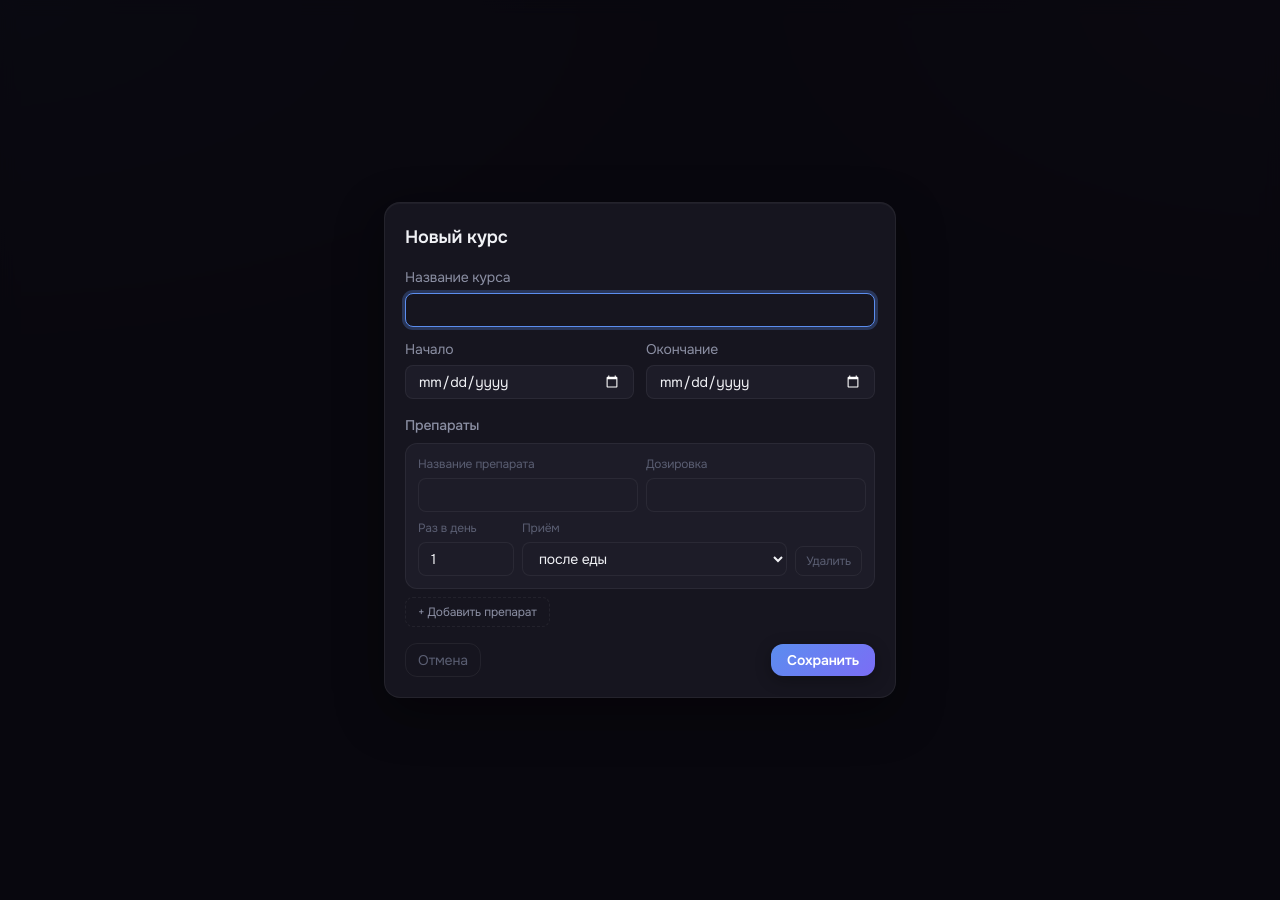
Scenario: препарат с пустым названием отклоняется
Type "Курс" into the field labelled "Название курса" at (640, 310), box [405,293,875,327]
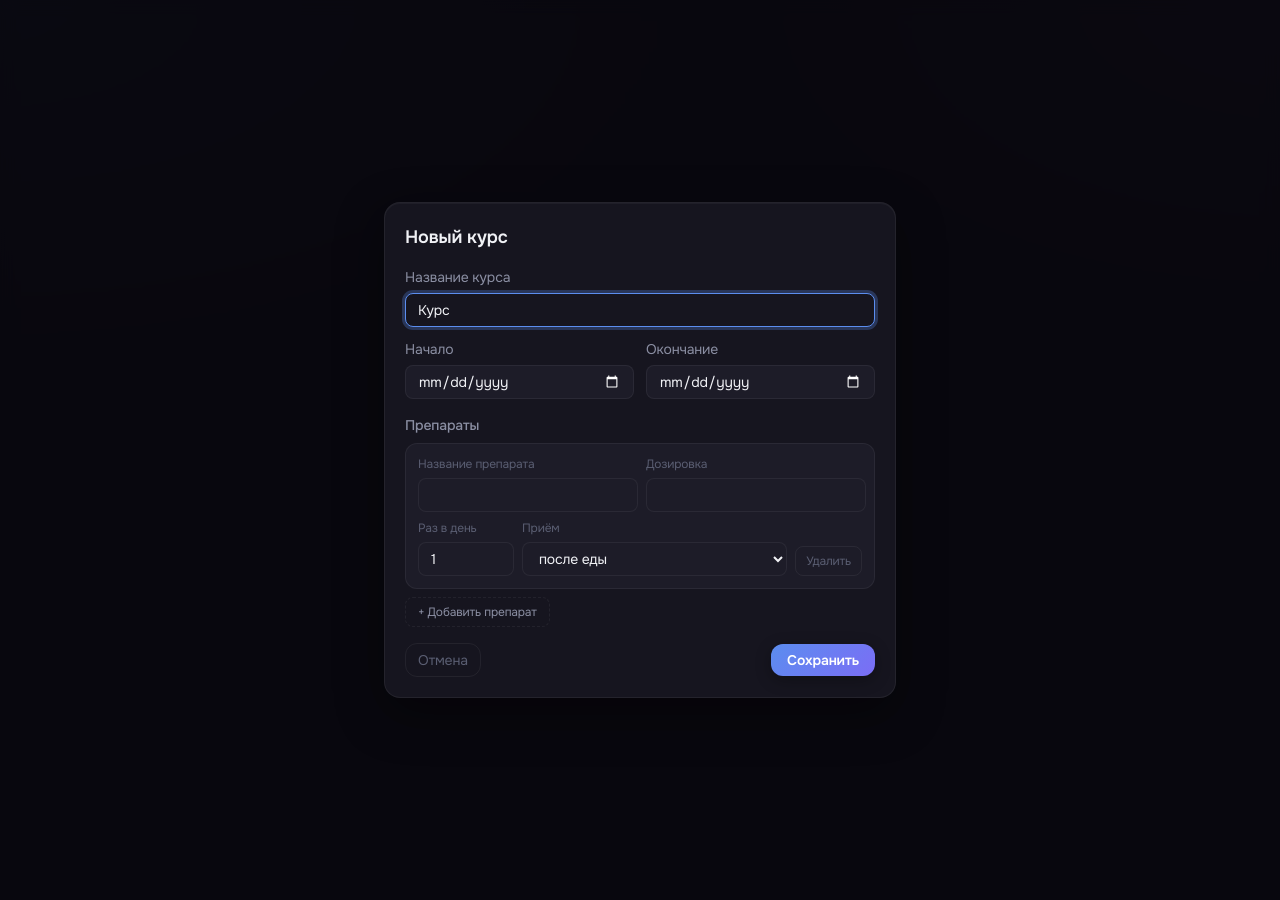
Type "2026-10-01" into the date field labelled "Начало" at (520, 382), box [405,365,634,399]
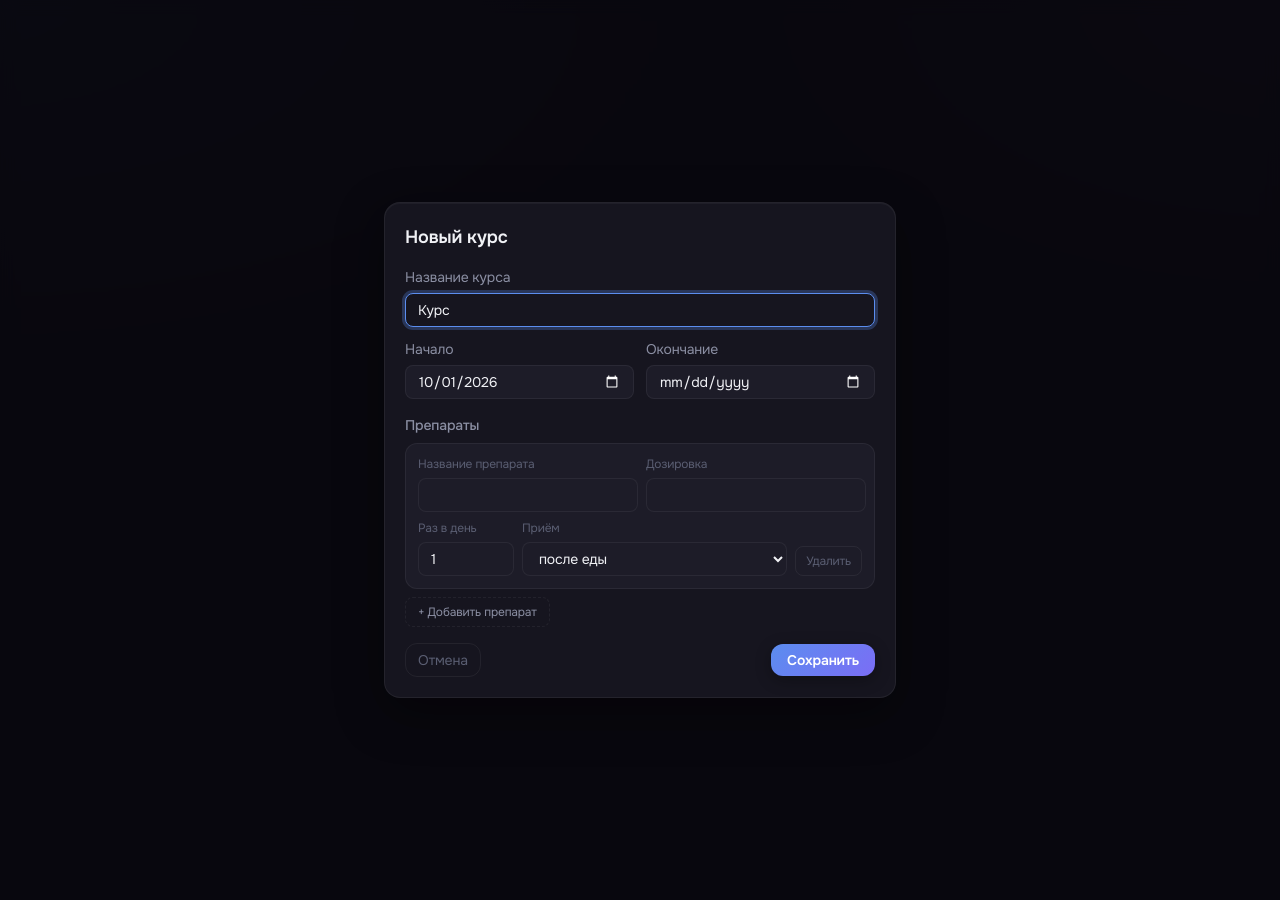
Type "2026-10-07" into the date field labelled "Окончание" at (760, 382), box [646,365,875,399]
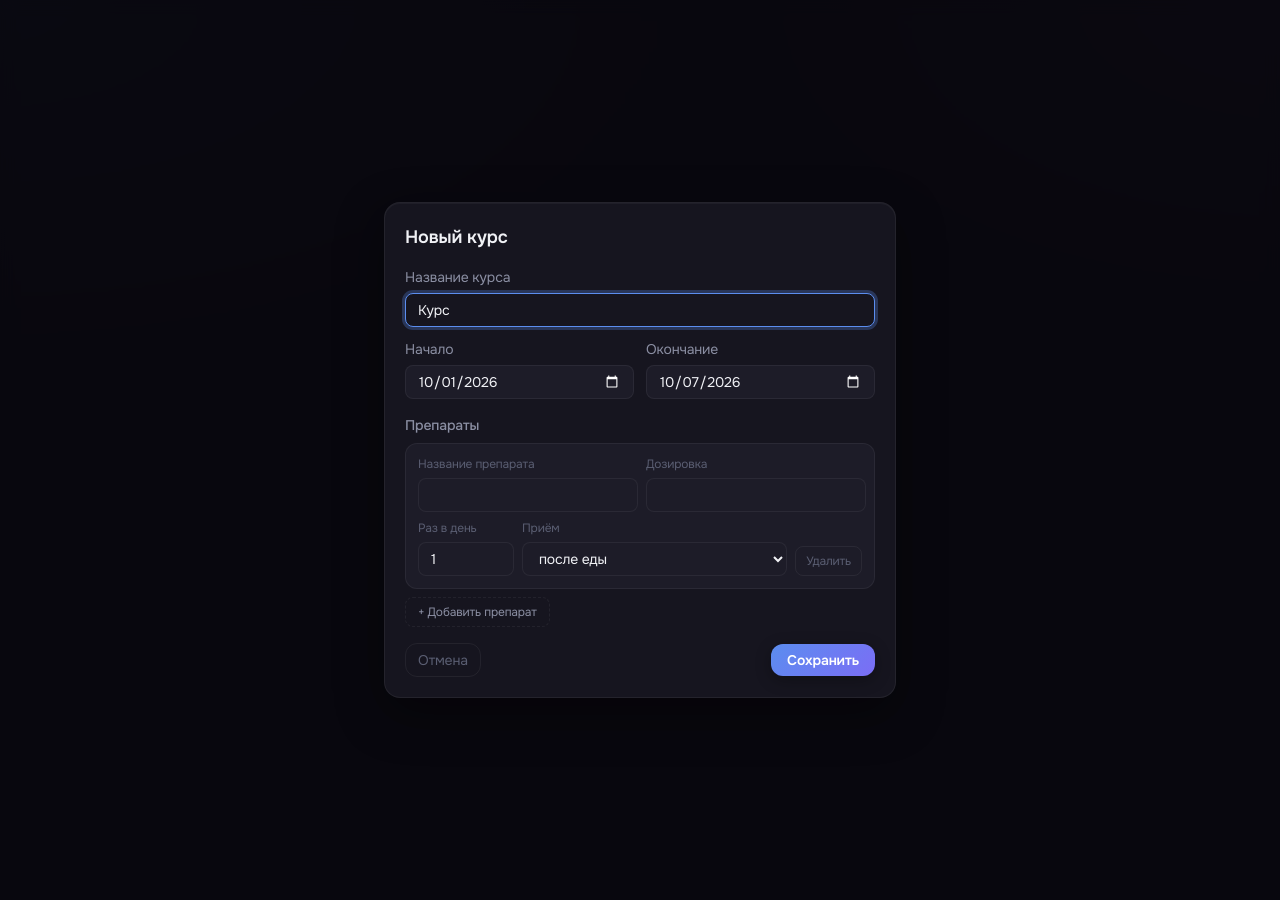
Click the button "Сохранить" at (823, 660), box [771,644,875,676]
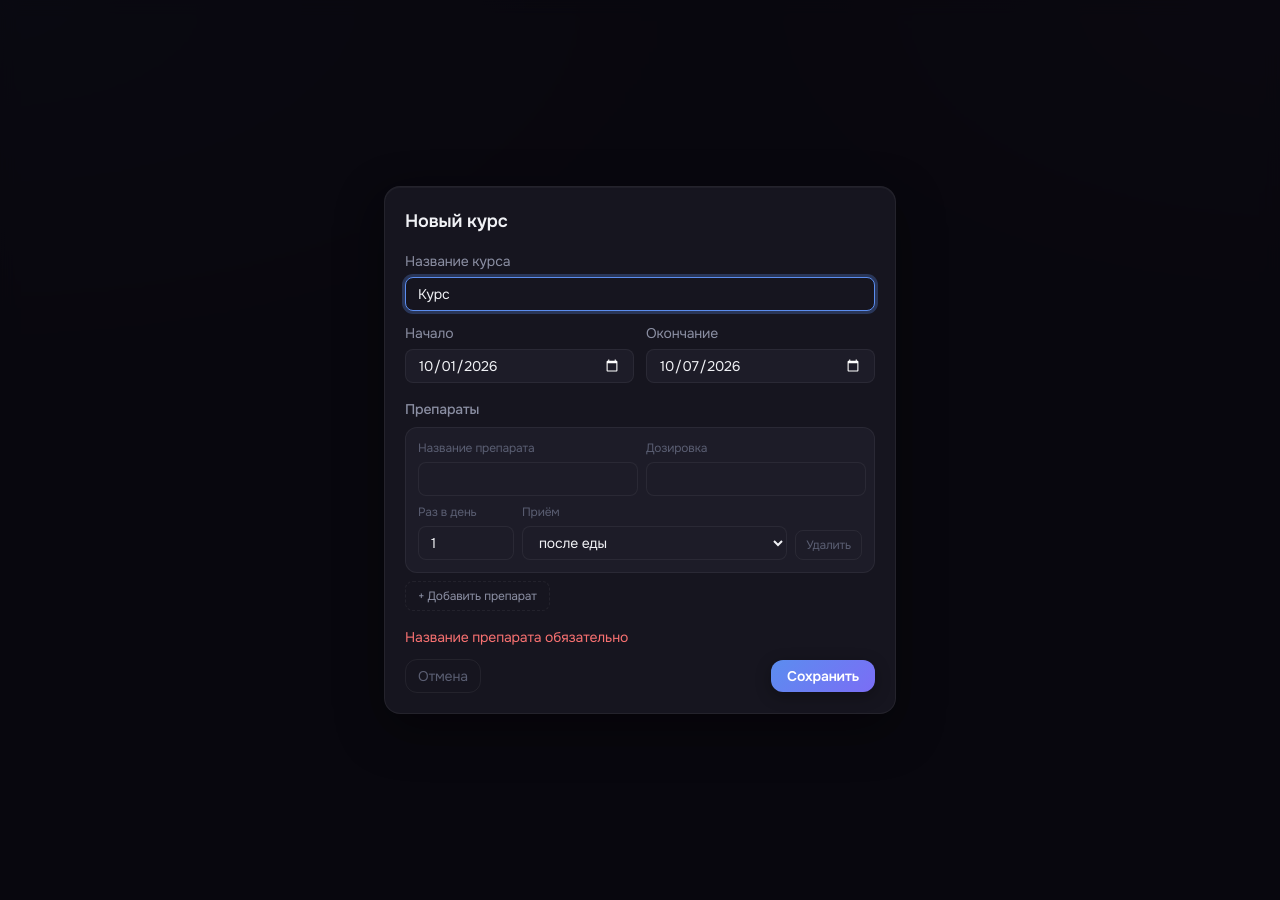
Expected: the text "Название препарата обязательно" is shown, [405,628,628,646]
